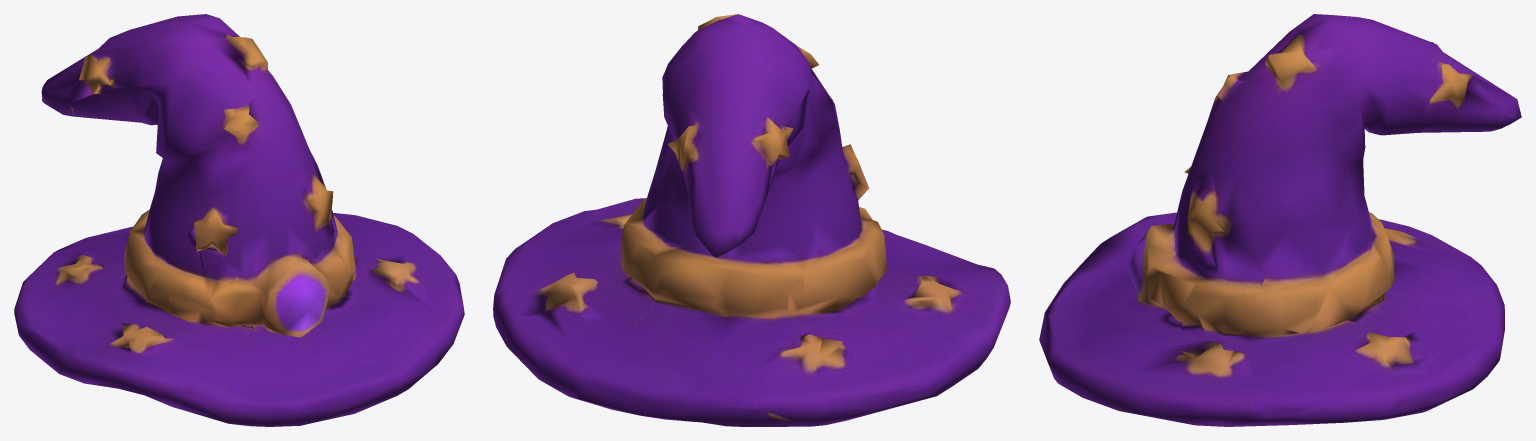
The model's file is hat_wizardArch-D-gy_2Xy.glb.
3 renders of one model, left to right at view 1: azimuth 30°, elevation 25°; view 2: azimuth 150°, elevation 25°; view 3: azimuth 270°, elevation 25°, orthographic. The views are drawn at different scales.
Parts seen in each view (by area): view 1: tripo_node_b1f0d12a-dbc6-43bf-bb2f-9effedb53e50; view 2: tripo_node_b1f0d12a-dbc6-43bf-bb2f-9effedb53e50; view 3: tripo_node_b1f0d12a-dbc6-43bf-bb2f-9effedb53e50.
Boxes of the visible parts, x1=… form: tripo_node_b1f0d12a-dbc6-43bf-bb2f-9effedb53e50: x1=14, y1=14, x2=464, y2=426; tripo_node_b1f0d12a-dbc6-43bf-bb2f-9effedb53e50: x1=493, y1=14, x2=1010, y2=426; tripo_node_b1f0d12a-dbc6-43bf-bb2f-9effedb53e50: x1=1039, y1=14, x2=1521, y2=426.
Bounding box in the file's own units: 1 × 0.7561 × 0.9992.
Materials: 1 (1 with a texture image).
